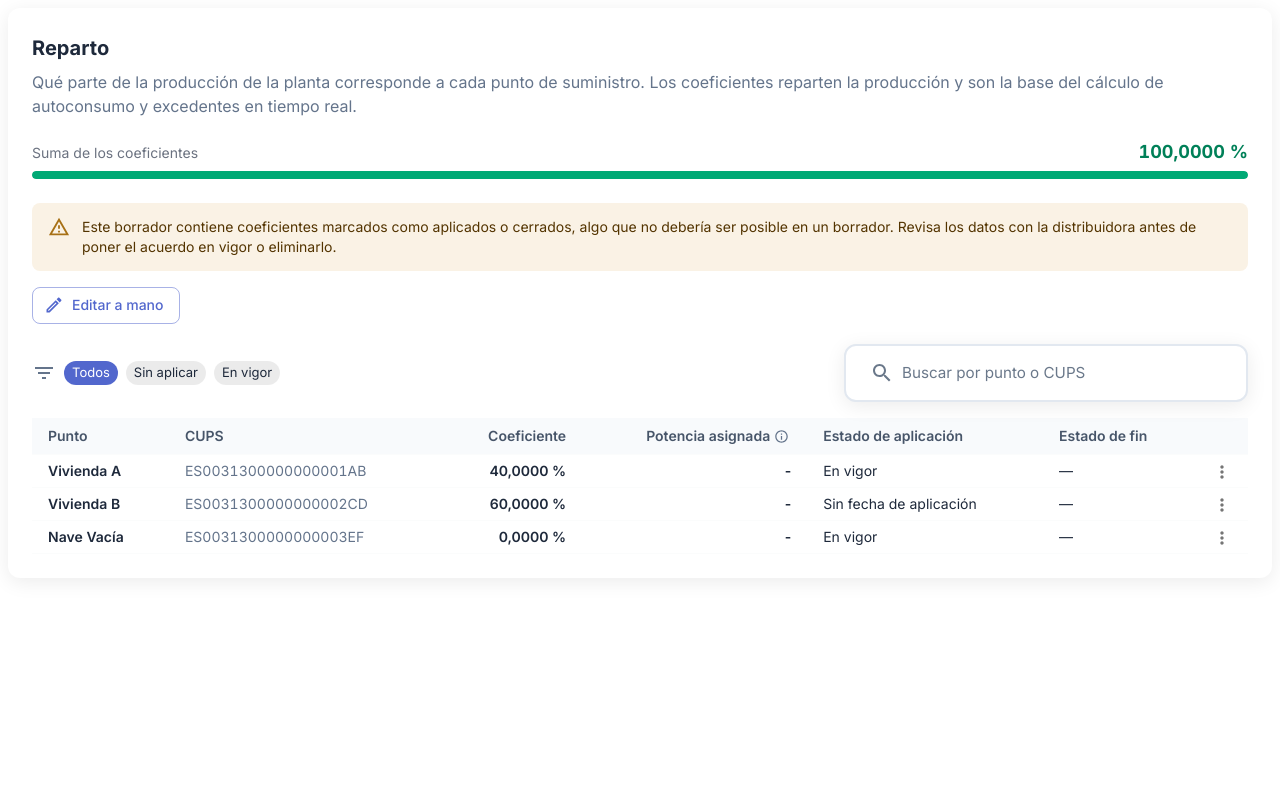
Test case: SharingAgreementCoefficientSet (DRAFT editing) › falls back to percentage mode, with kW disabled, when the agreement has no installedPowerKw
The width and height of the screenshot is (1280, 800).
Step 1. Click the button "Editar a mano" → (106, 305), box [32, 287, 180, 324]
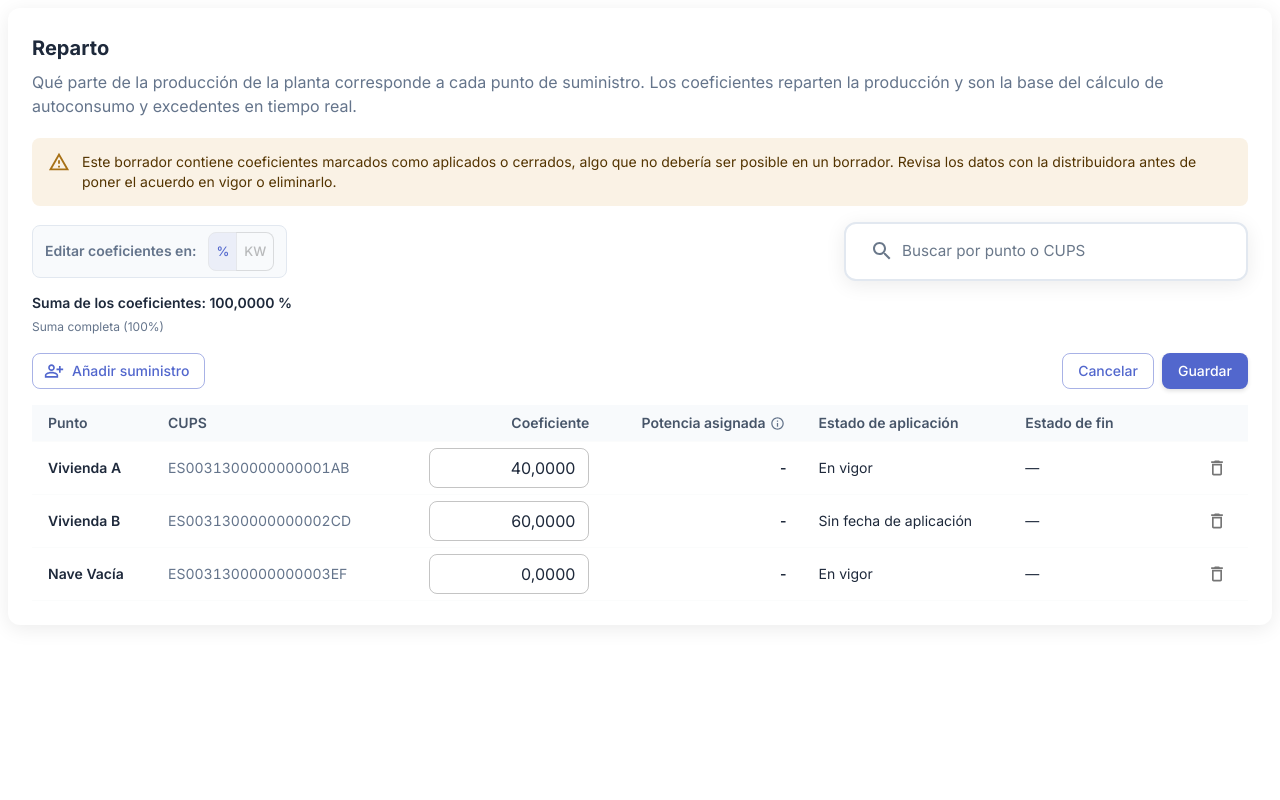
Now the button "kW" is disabled, box [236, 232, 274, 271]
